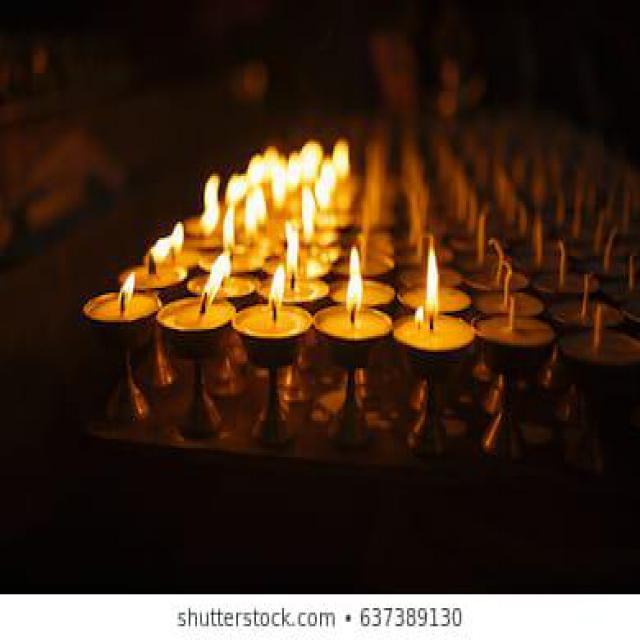Fire: (199, 252, 229, 312), (148, 222, 186, 266), (199, 174, 219, 234), (425, 238, 438, 327), (348, 246, 363, 321), (266, 264, 284, 319), (246, 191, 266, 239), (116, 270, 136, 314), (302, 188, 315, 242), (223, 206, 236, 258), (288, 228, 298, 282)
